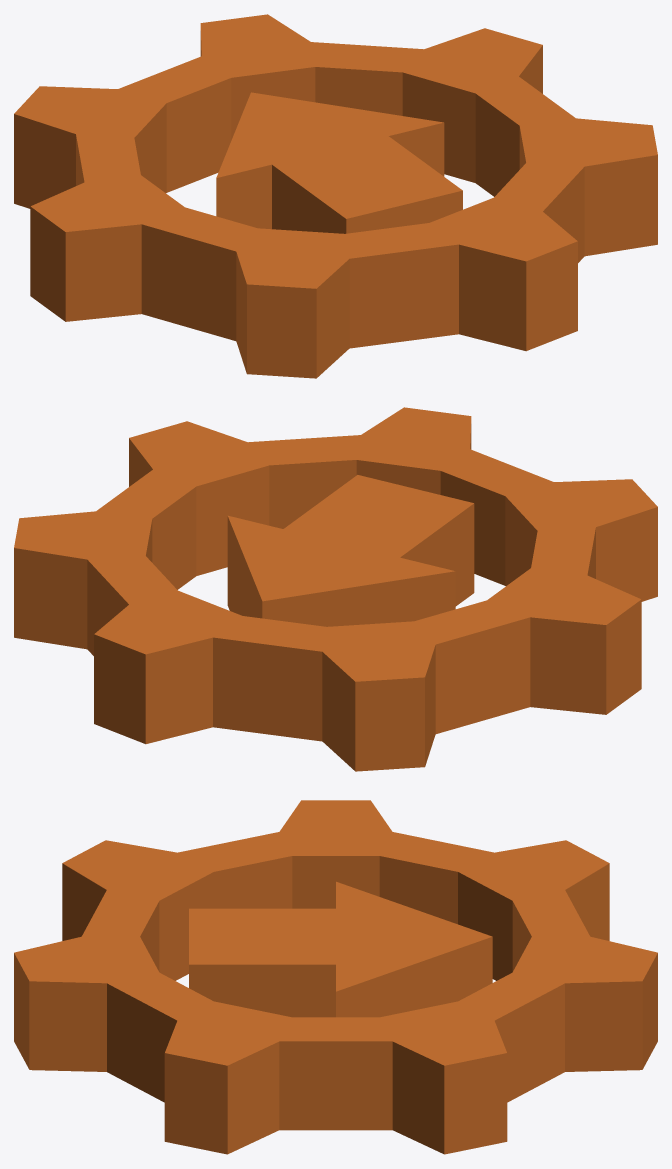
Rendered from powerup.glb.
3 views of the same model, one above another, from view 1: azimuth 30°, elevation 25°; view 2: azimuth 150°, elevation 25°; view 3: azimuth 270°, elevation 25° (orthographic).
Visible parts, largest first — view 1: Gear, Arrow; view 2: Gear, Arrow; view 3: Gear, Arrow.
Part boxes in pixels (<box>): Gear: <box>14,14,657,378</box>; Arrow: <box>216,92,462,233</box>; Gear: <box>14,407,657,771</box>; Arrow: <box>227,475,474,626</box>; Gear: <box>14,800,657,1154</box>; Arrow: <box>189,881,492,1017</box>.
Size of the model in its own units: 6.41 by 1 by 6.57.
